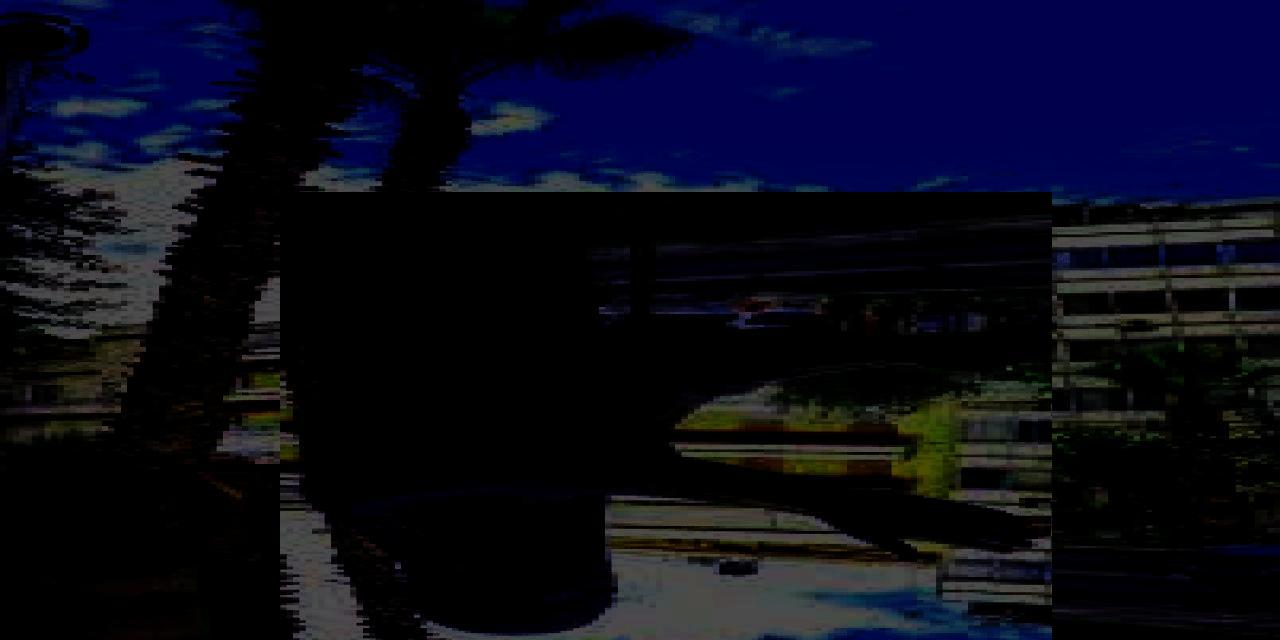Aretousa: (281, 193, 1053, 640)
